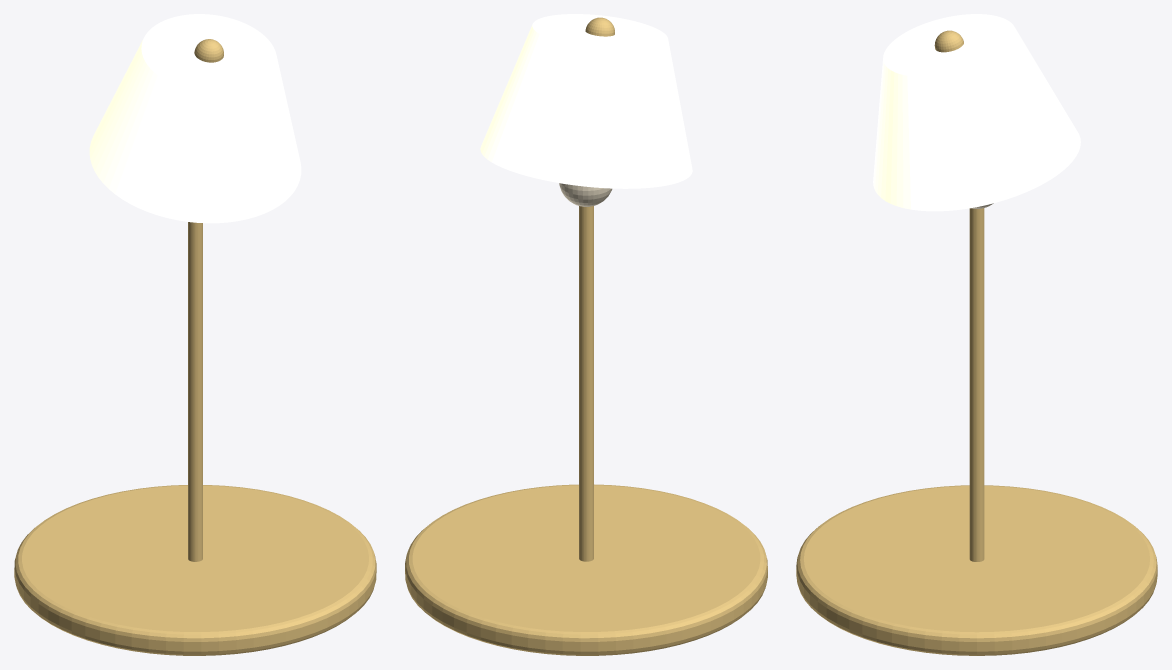
File: brass_lamp_gold.fbx
3 views of the same model, side by side, from view 1: azimuth 30°, elevation 25°; view 2: azimuth 150°, elevation 25°; view 3: azimuth 270°, elevation 25° (orthographic).
Parts seen in each view (by area): view 1: V_Gold_Base, V_Gold_Shade, V_Gold_Stem, V_Gold_Finial; view 2: V_Gold_Base, V_Gold_Shade, V_Gold_Stem, V_Gold_Bulb; view 3: V_Gold_Base, V_Gold_Shade, V_Gold_Stem.
Boxes of the visible parts, x1,y1,x2,y2 form: V_Gold_Base: (14,485,376,655); V_Gold_Shade: (89,14,301,223); V_Gold_Stem: (188,222,202,561); V_Gold_Finial: (194,39,223,62); V_Gold_Base: (405,484,767,655); V_Gold_Shade: (480,14,692,188); V_Gold_Stem: (579,206,593,561); V_Gold_Bulb: (559,183,612,206); V_Gold_Base: (796,485,1157,655); V_Gold_Shade: (873,14,1080,211); V_Gold_Stem: (969,208,984,561).
Size of the model in its own units: 170 by 286 by 170.
